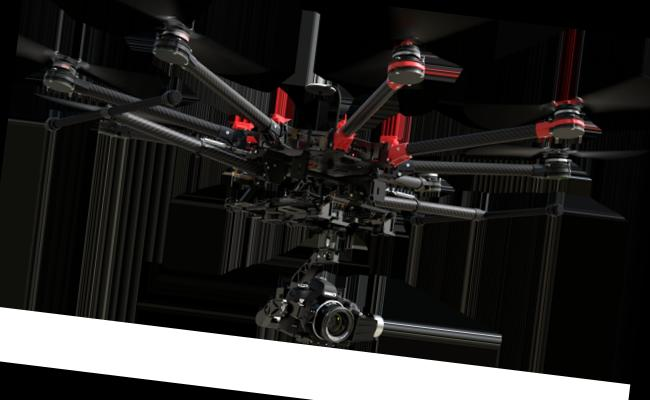drone: (0, 0, 650, 273)
